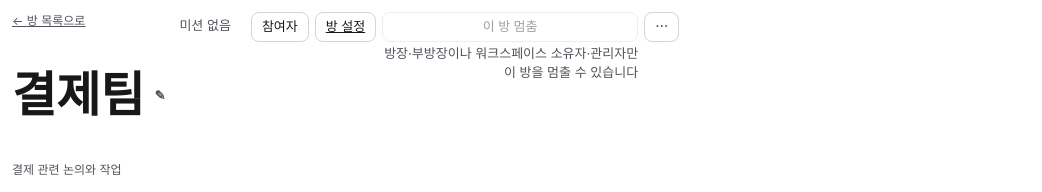
Test case: S7 방 머리 — 편집 › 바깥을 누르면 취소 — 말없이 저장하지 않는다 · 칸 안의 「저장」 으로 옮기는 것은 바깥이 아니다
Click the button with test id "room-title-pencil".
click(160, 95)  # box [150,87,169,104]
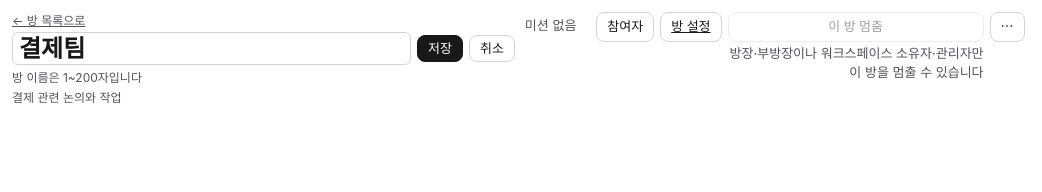
Replace the text in the field with test id "room-title-input" with "딴 이름" at (212, 49), box [12,32,411,65]
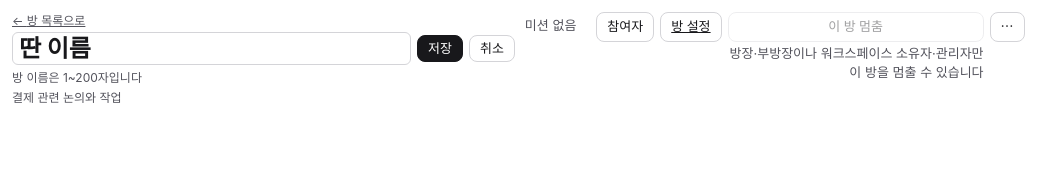
Leave the field with test id "room-title-input", box [12,32,411,65]
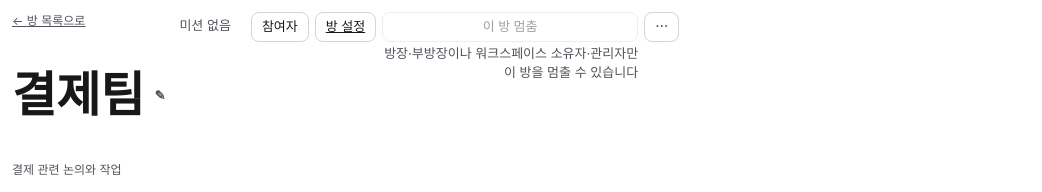
Expected: the field with test id "room-title-input" is gone
